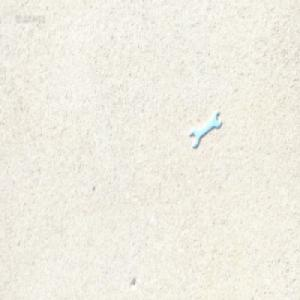Wrench: (190, 112, 221, 148)
